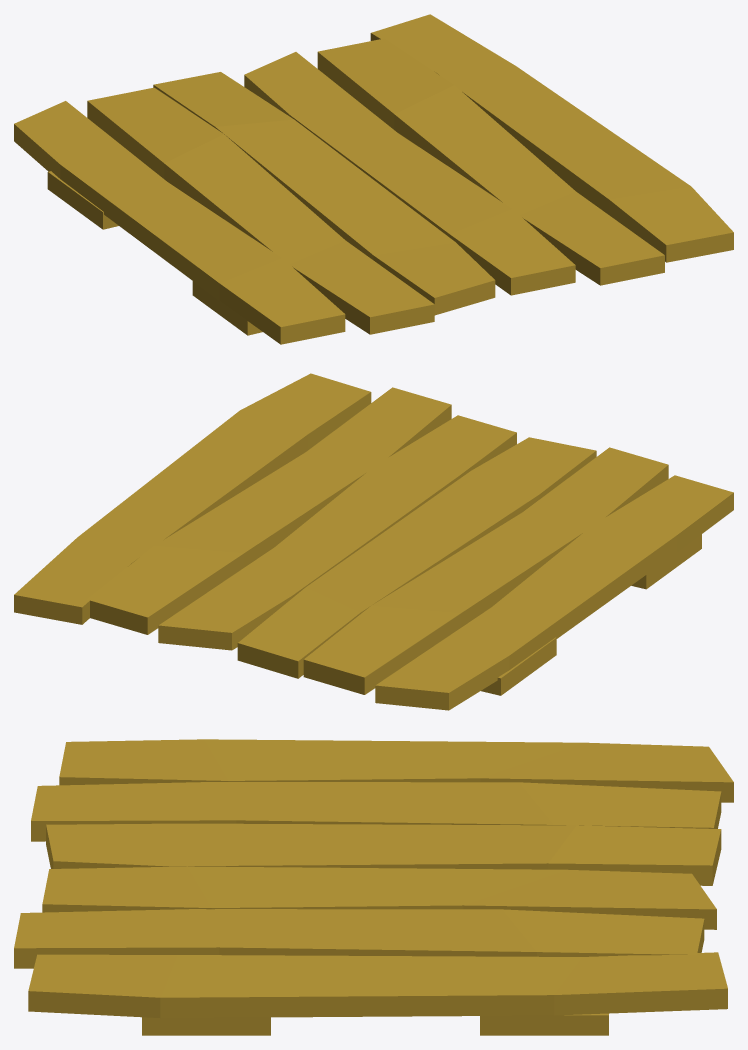
The model's file is Platform_01.fbx.
The picture shows the model from 3 angles, top to bottom: view 1: azimuth 30°, elevation 25°; view 2: azimuth 150°, elevation 25°; view 3: azimuth 270°, elevation 25°; orthographic projection. The views are drawn at different scales.
Visible parts, largest first — view 1: Platform_01; view 2: Platform_01; view 3: Platform_01.
Boxes of the visible parts, left/top/right/bottom form: Platform_01: left=14, top=14, right=733, bottom=344; Platform_01: left=14, top=373, right=733, bottom=710; Platform_01: left=14, top=739, right=733, bottom=1035.
Bounding box in the file's own units: 5.42 × 0.436 × 6.39.
